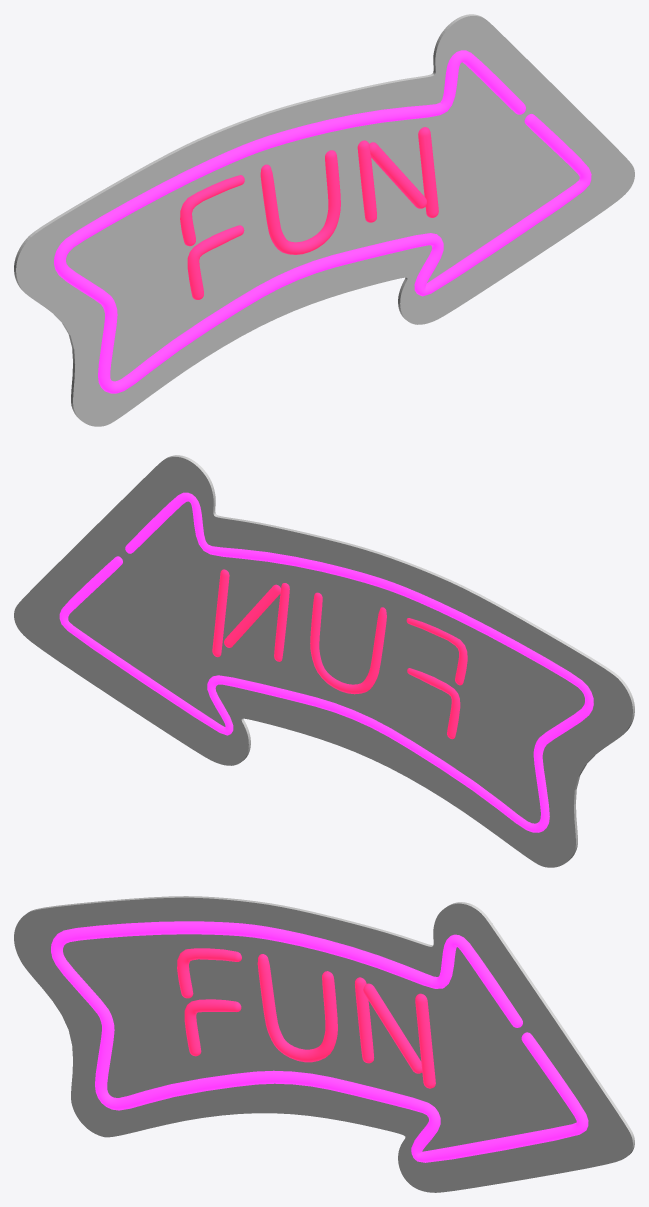
File: neon_fun.glb
3 renders of one model, top to bottom at view 1: azimuth 30°, elevation 25°; view 2: azimuth 150°, elevation 25°; view 3: azimuth 330°, elevation 25°, orthographic.
Parts seen in each view (by area): view 1: SM_TransparentPlate_Glass.001_0, SM_Neon-FUN_Neon-Arrow_0, SM_Neon-FUN_Neon-Writing_0; view 2: SM_TransparentPlate_Glass.001_0, SM_Neon-FUN_Neon-Arrow_0, SM_Neon-FUN_Neon-Writing_0; view 3: SM_TransparentPlate_Glass.001_0, SM_Neon-FUN_Neon-Arrow_0, SM_Neon-FUN_Neon-Writing_0.
Part boxes in pixels (x1,y1,x2,y2): SM_TransparentPlate_Glass.001_0: [14, 14, 634, 426]; SM_Neon-FUN_Neon-Arrow_0: [54, 50, 591, 393]; SM_Neon-FUN_Neon-Writing_0: [180, 127, 438, 299]; SM_TransparentPlate_Glass.001_0: [14, 455, 634, 867]; SM_Neon-FUN_Neon-Arrow_0: [59, 492, 593, 832]; SM_Neon-FUN_Neon-Writing_0: [212, 569, 467, 739]; SM_TransparentPlate_Glass.001_0: [14, 896, 634, 1192]; SM_Neon-FUN_Neon-Arrow_0: [51, 921, 588, 1162]; SM_Neon-FUN_Neon-Writing_0: [177, 948, 435, 1088].
Bounding box in the file's own units: 5.11 × 2.53 × 0.0967.
